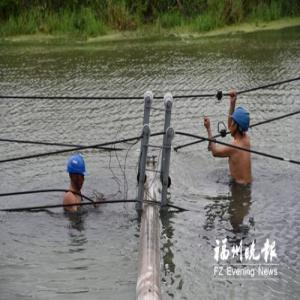blue: (66, 153, 88, 190), (230, 106, 251, 139)
